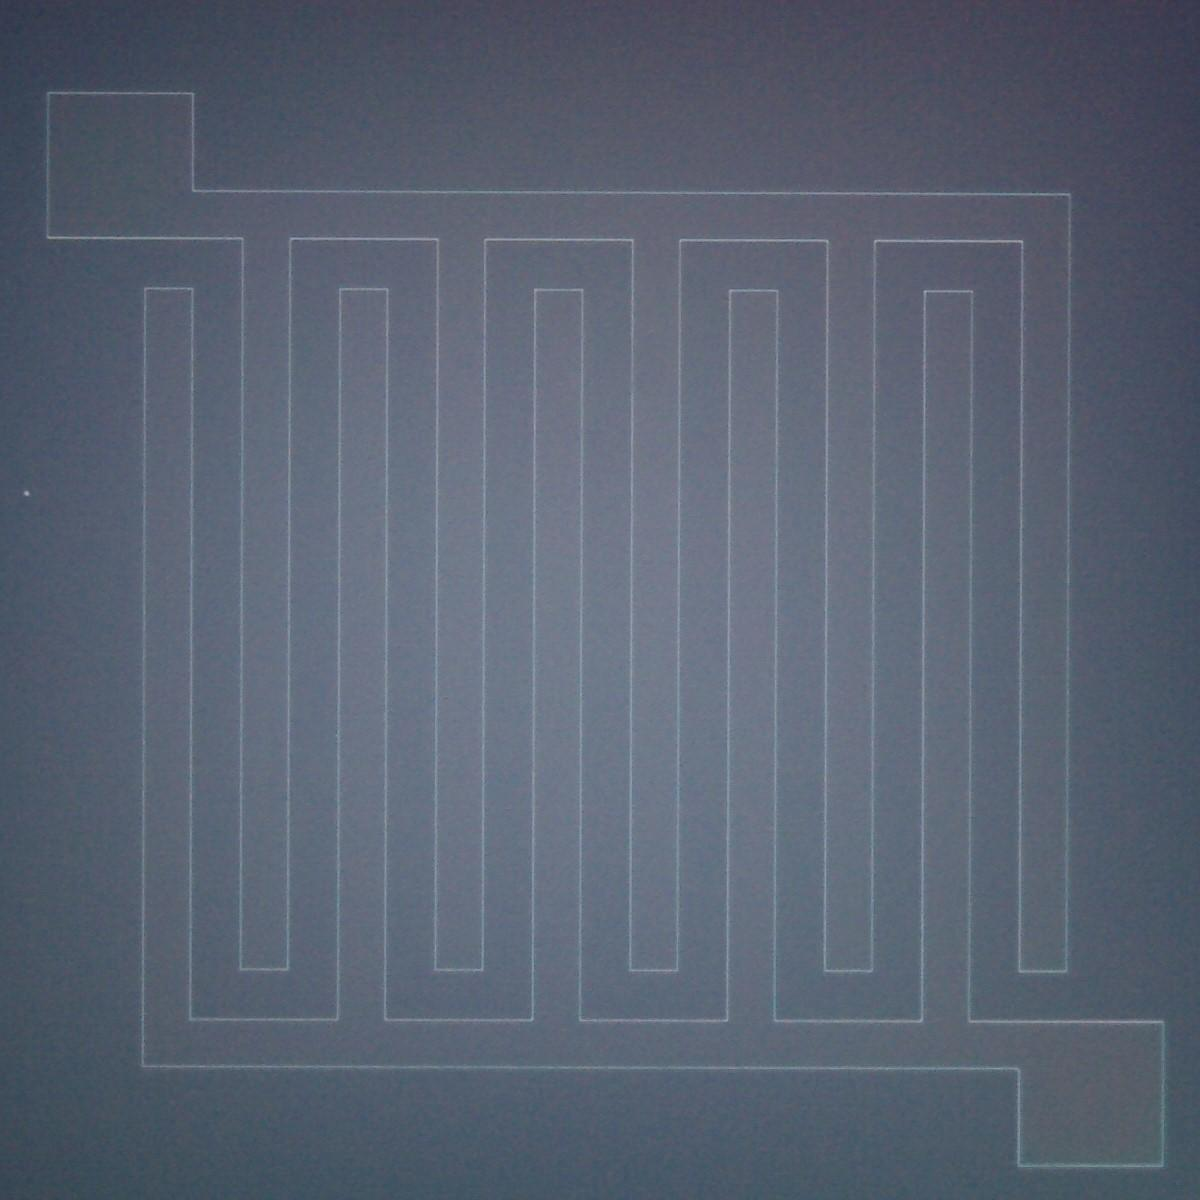s_point: (18, 484, 37, 504)
